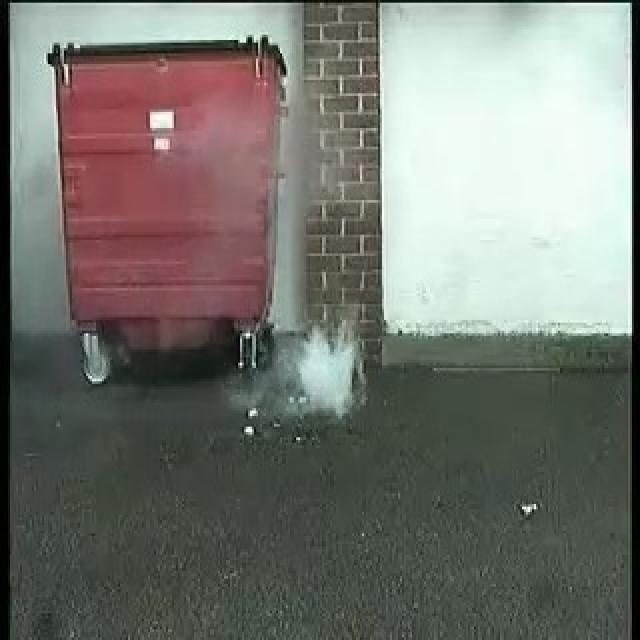Smoke: (274, 310, 364, 416)
